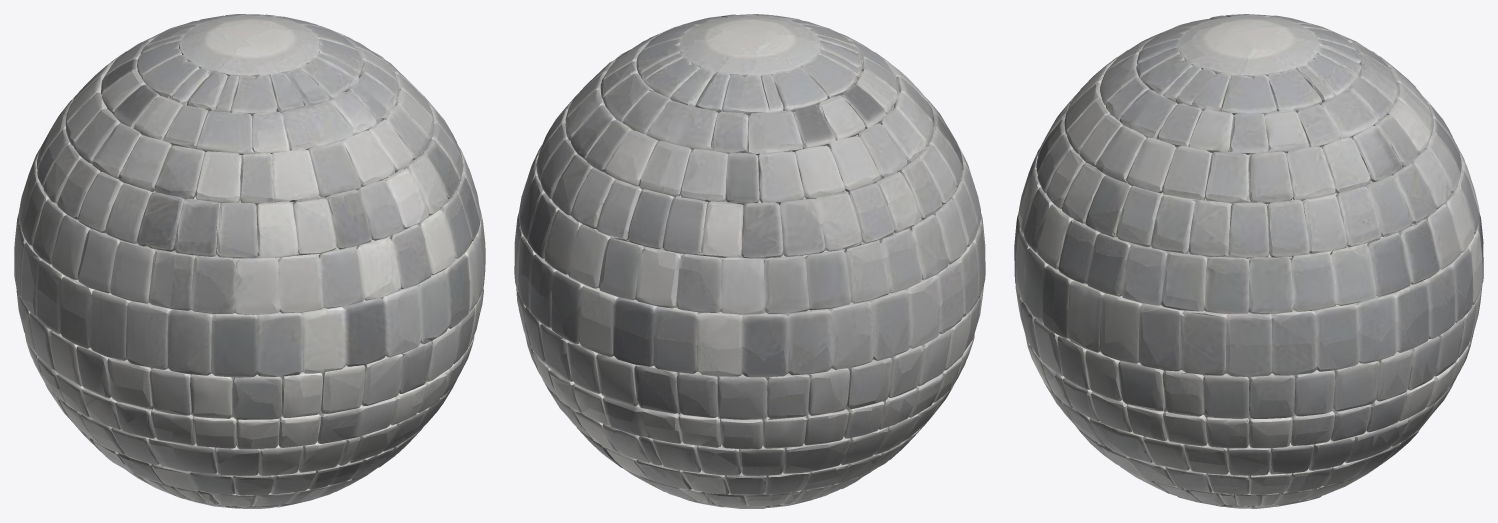
3 views of the same model, side by side, from view 1: azimuth 30°, elevation 25°; view 2: azimuth 150°, elevation 25°; view 3: azimuth 270°, elevation 25° (orthographic).
Parts seen in each view (by area): view 1: output_unwrapped; view 2: output_unwrapped; view 3: output_unwrapped.
Boxes of the visible parts, left/top/right/bottom form: output_unwrapped: left=14, top=14, right=485, bottom=508; output_unwrapped: left=514, top=14, right=985, bottom=508; output_unwrapped: left=1014, top=14, right=1483, bottom=508.
Bounding box in the file's own units: 1.8 × 1.9 × 1.8.
Materials: 1 (1 with a texture image).
